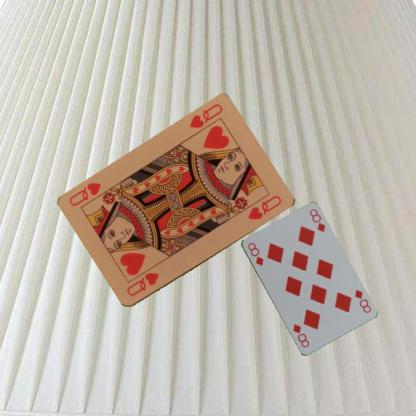8d: (245, 240, 265, 267), (352, 287, 372, 314)
Qh: (186, 101, 224, 130), (124, 270, 160, 298)
